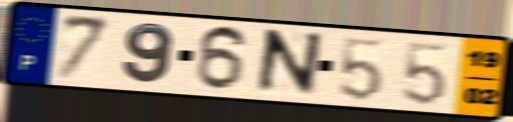5: (336, 35, 387, 102), (400, 40, 451, 107)
6: (195, 23, 255, 93)
7: (58, 12, 113, 83)
9: (119, 20, 177, 87)
N: (251, 27, 326, 99)
